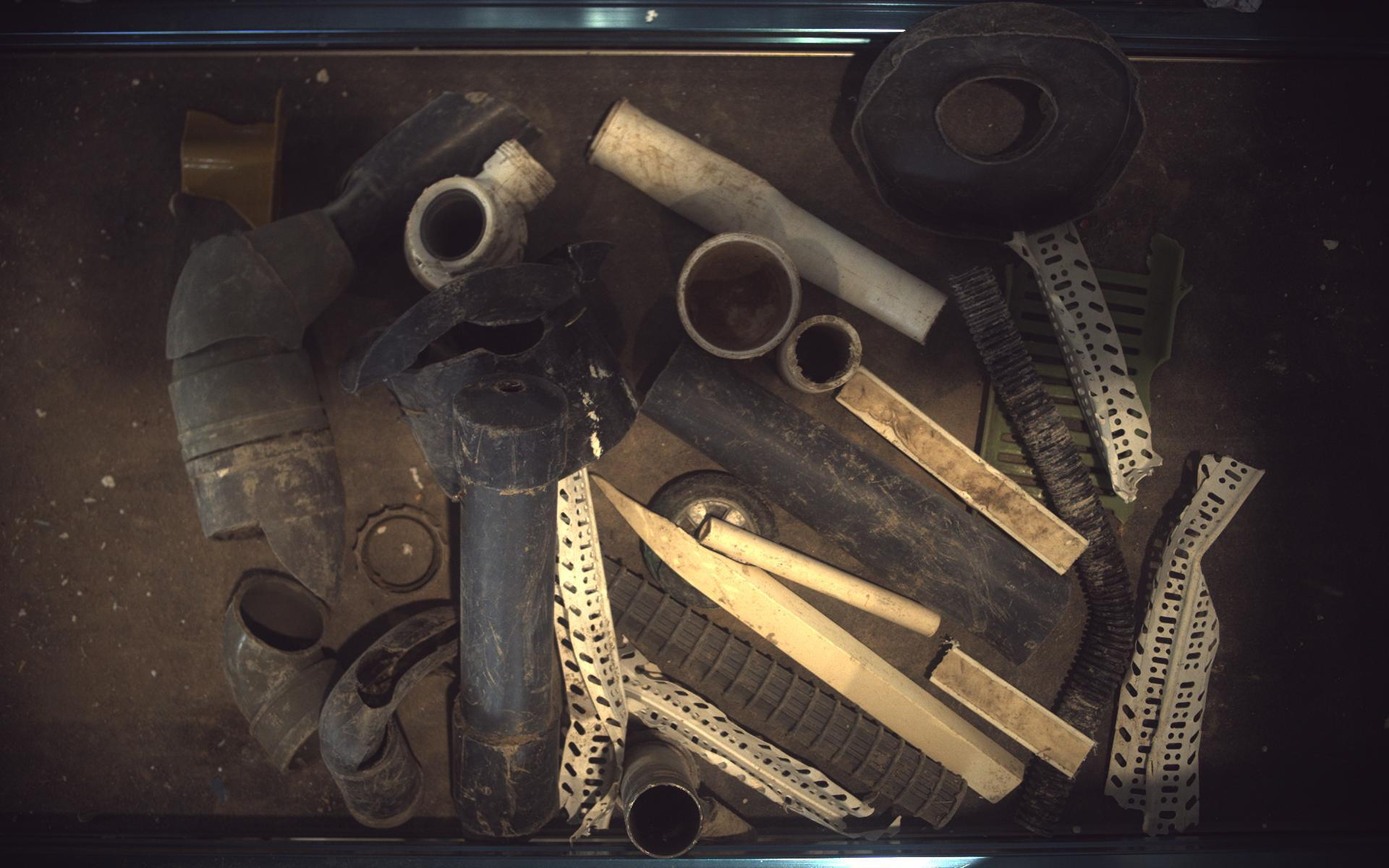pipes: (643, 343, 1072, 665), (951, 265, 1139, 738), (591, 98, 948, 343), (166, 210, 354, 601), (454, 371, 570, 839), (323, 91, 540, 256), (319, 606, 459, 830), (699, 519, 943, 637), (224, 571, 337, 772), (678, 231, 802, 359), (621, 740, 752, 859), (778, 315, 864, 393), (1019, 760, 1076, 835)
plastic: (591, 474, 1027, 804), (606, 559, 969, 830), (342, 245, 639, 505), (854, 2, 1147, 239), (1108, 455, 1266, 836), (838, 365, 1090, 575), (621, 647, 875, 835), (1012, 221, 1165, 502), (1009, 263, 1137, 522), (555, 469, 629, 841), (404, 138, 556, 289), (933, 643, 1098, 780), (1097, 233, 1194, 414), (179, 88, 281, 227), (649, 470, 778, 540), (354, 506, 443, 594), (982, 390, 1045, 500), (643, 544, 717, 609)
